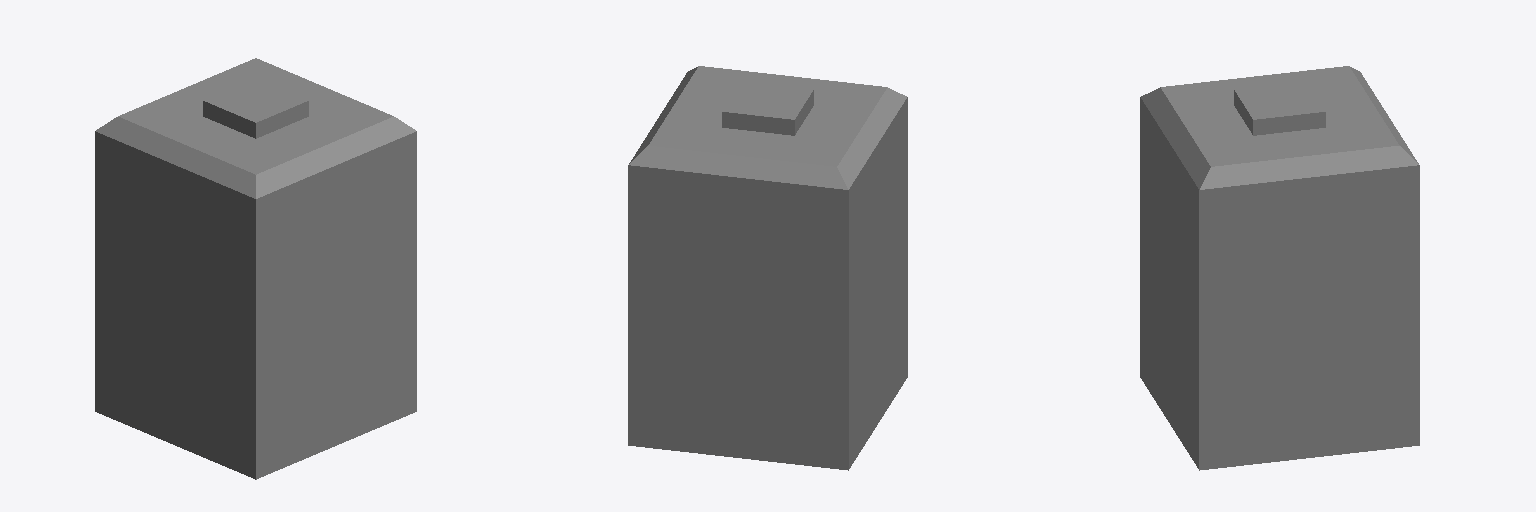
The model's file is Obstacle_086.obj.
3 renders of one model, left to right at view 1: azimuth 30°, elevation 25°; view 2: azimuth 150°, elevation 25°; view 3: azimuth 270°, elevation 25°, orthographic.
Parts seen in each view (by area): view 1: Box147; view 2: Box147; view 3: Box147.
Boxes of the visible parts, x1,y1,x2,y2 form: Box147: [95, 58, 416, 479]; Box147: [628, 66, 907, 470]; Box147: [1140, 66, 1419, 470].
Bounding box in the file's own units: 33.75 × 41.5 × 33.75.